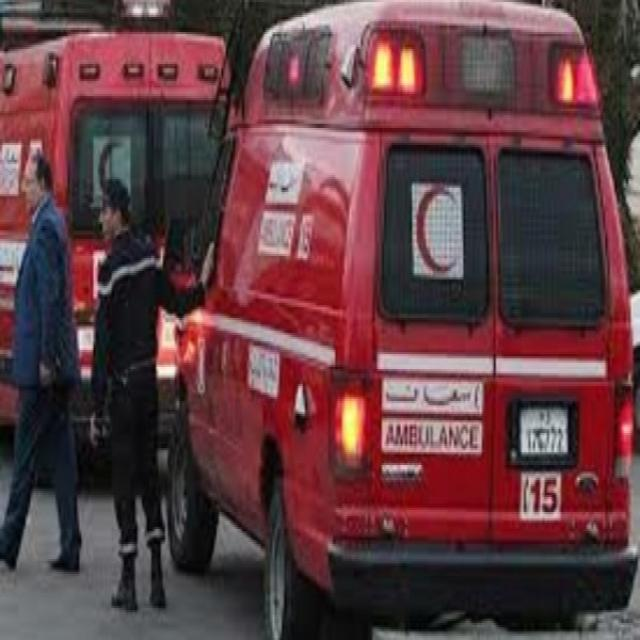ambulance: (174, 2, 631, 625)
